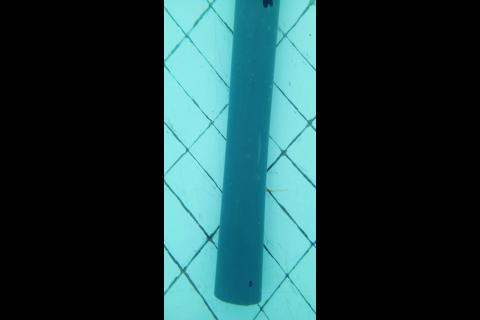kebocoran: (261, 0, 274, 8)
